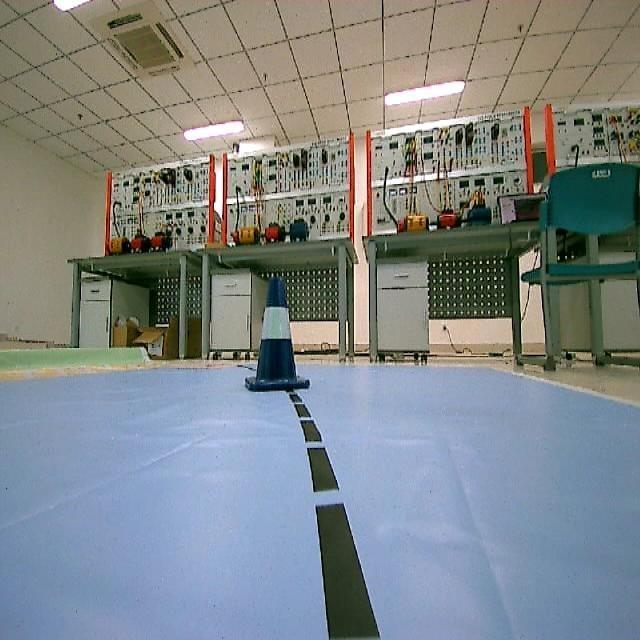obstacle: (240, 270, 318, 396)
